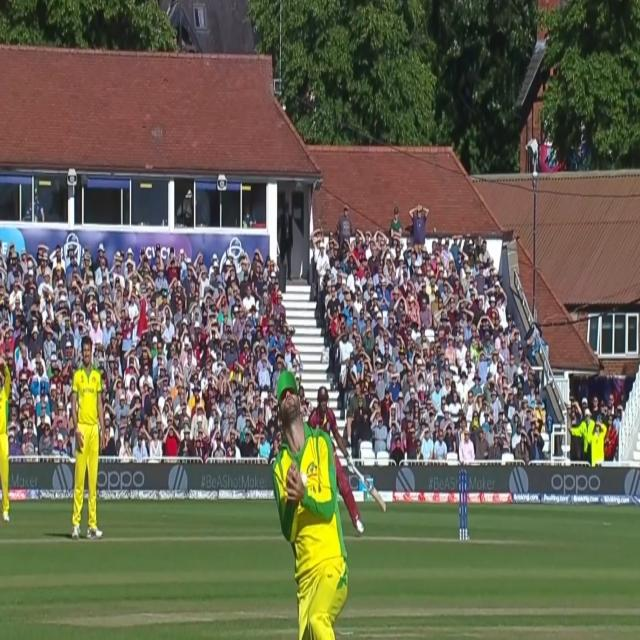ball: (300, 468, 312, 488)
